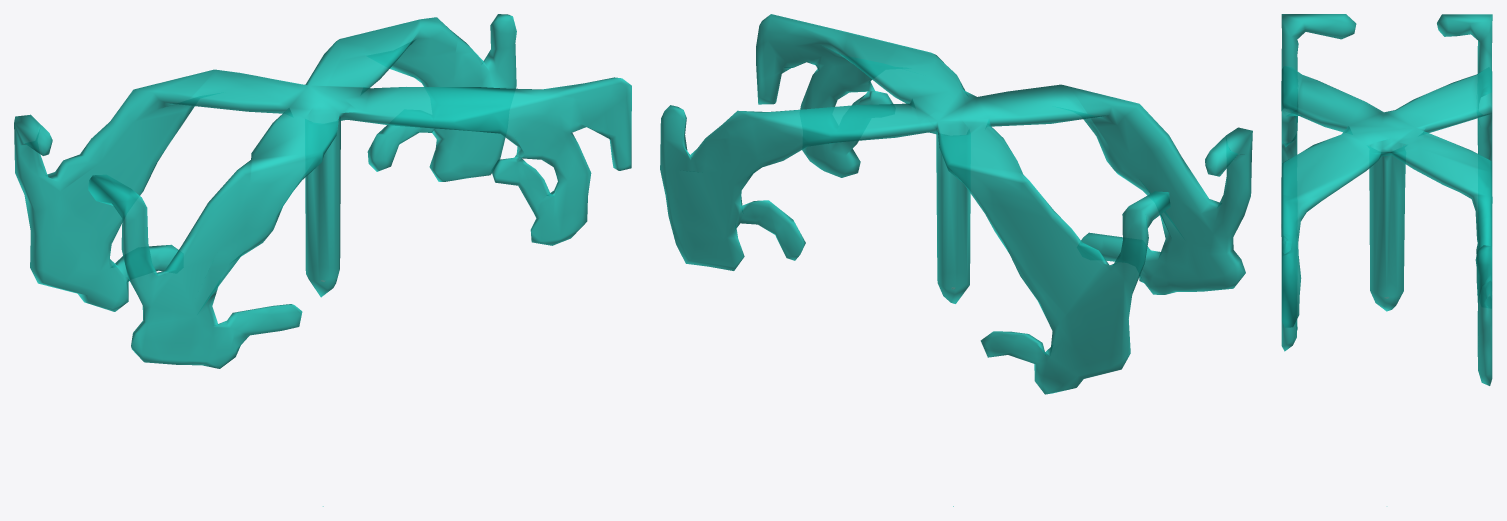
The picture shows the model from 3 angles, left to right: view 1: azimuth 30°, elevation 25°; view 2: azimuth 150°, elevation 25°; view 3: azimuth 270°, elevation 25°; orthographic projection. The views are drawn at different scales.
Visible parts, largest first — view 1: Liquid_Domain; view 2: Liquid_Domain; view 3: Liquid_Domain.
Boxes of the visible parts, x1,y1,x2,y2 form: Liquid_Domain: (14, 14, 631, 368); Liquid_Domain: (660, 14, 1252, 394); Liquid_Domain: (1281, 14, 1492, 385).
Size of the model in its own units: 1966 by 1517 by 766.
